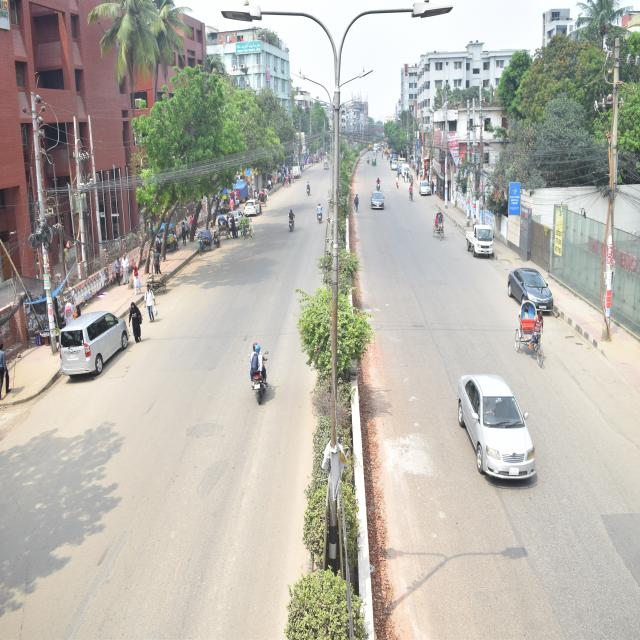car: (454, 372, 546, 483), (55, 314, 133, 378), (507, 264, 556, 318), (221, 206, 249, 231), (243, 198, 266, 222), (368, 192, 388, 218), (419, 180, 436, 201)
motorbike: (247, 349, 272, 415), (463, 221, 499, 264), (283, 211, 298, 236), (315, 205, 329, 228)
